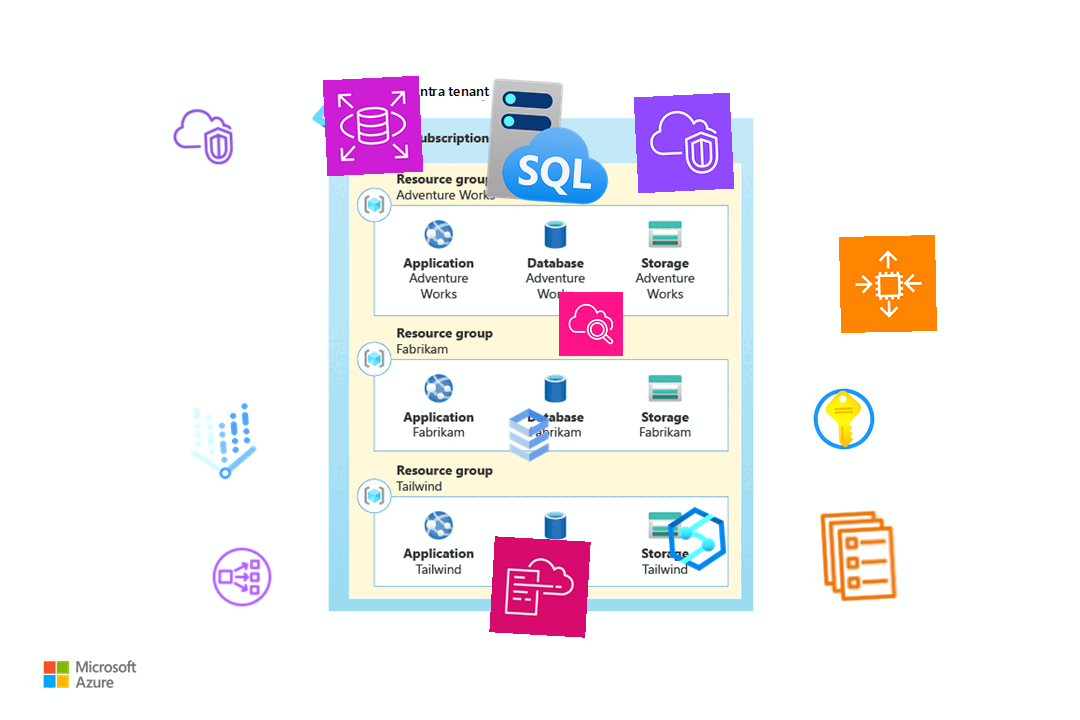aws_amazon_cloudwatch: (558, 291, 624, 357)
aws_amazon_ec2_auto_scaling: (838, 234, 938, 334)
aws_amazon_rds: (322, 75, 424, 177)
aws_amazon_virtual_private_cloud: (633, 92, 735, 194)
aws_cloudformation: (489, 536, 591, 638)
aws_elastic_container_service_service: (808, 505, 910, 607)
aws_elastic_load_balancing_network_load_balancer: (209, 544, 275, 610)
aws_vpc_virtual_private_cloud_vpc: (169, 103, 237, 171)
azure_key_vaults: (810, 385, 878, 453)
azure_sql_managed_instance: (481, 73, 619, 211)
azure_synapse_analytics: (662, 504, 732, 574)
gcp_cloud_sql: (496, 402, 562, 468)
gcp_vertex_ai: (171, 390, 275, 494)
